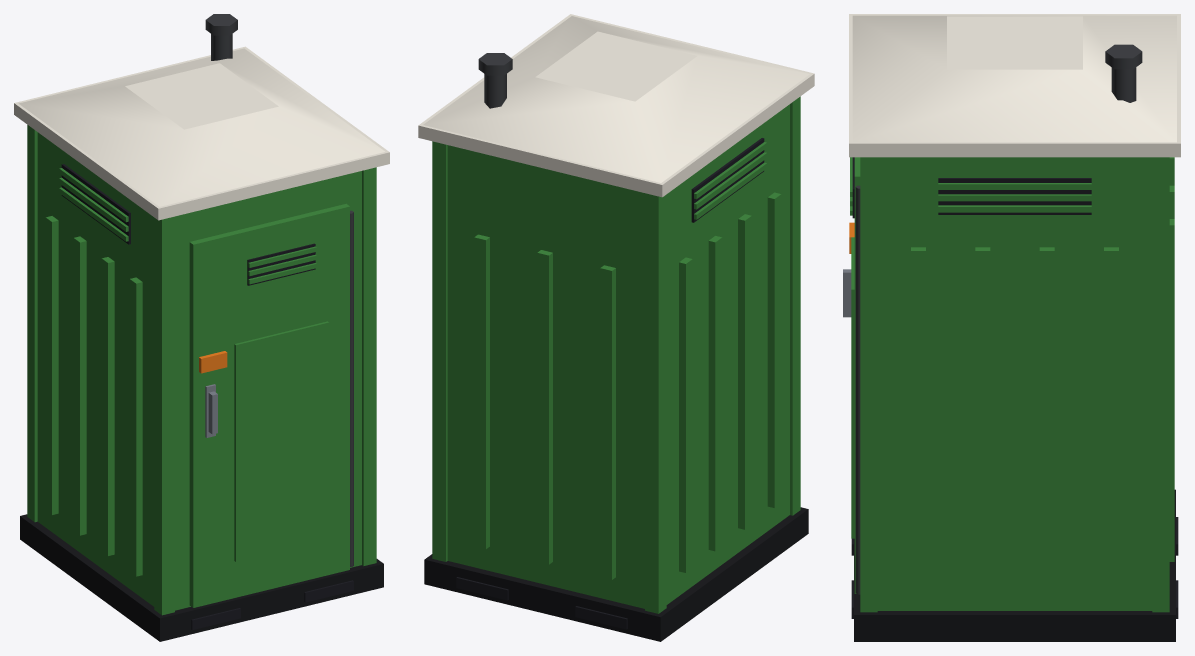
Rendered from PortableToilet.fbx.
The picture shows the model from 3 angles, left to right: view 1: azimuth 30°, elevation 25°; view 2: azimuth 150°, elevation 25°; view 3: azimuth 270°, elevation 25°; orthographic projection. The views are drawn at different scales.
Visible parts, largest first — view 1: PortableToilet_Festival_3A883A, PortableToilet_Festival_F2EDE2, PortableToilet_Festival_151619, PortableToilet_Festival_1B1B22, PortableToilet_Festival_3A3C40, PortableToilet_Festival_7D828C; view 2: PortableToilet_Festival_3A883A, PortableToilet_Festival_F2EDE2, PortableToilet_Festival_151619, PortableToilet_Festival_1B1B22, PortableToilet_Festival_3A3C40; view 3: PortableToilet_Festival_3A883A, PortableToilet_Festival_F2EDE2, PortableToilet_Festival_151619, PortableToilet_Festival_3A3C40, PortableToilet_Festival_1B1B22.
Boxes of the visible parts, x1,y1,x2,y2 form: PortableToilet_Festival_3A883A: (27,125,376,615); PortableToilet_Festival_F2EDE2: (14,46,389,220); PortableToilet_Festival_151619: (20,514,383,641); PortableToilet_Festival_1B1B22: (61,164,353,630); PortableToilet_Festival_3A3C40: (205,14,353,566); PortableToilet_Festival_7D828C: (205,384,217,437); PortableToilet_Festival_3A883A: (432,96,800,613); PortableToilet_Festival_F2EDE2: (418,14,814,197); PortableToilet_Festival_151619: (424,507,808,641); PortableToilet_Festival_1B1B22: (456,138,764,629); PortableToilet_Festival_3A3C40: (478,53,512,108); PortableToilet_Festival_3A883A: (850,157,1174,612); PortableToilet_Festival_F2EDE2: (849,14,1180,157); PortableToilet_Festival_151619: (854,489,1175,641); PortableToilet_Festival_3A3C40: (855,44,1142,594); PortableToilet_Festival_1B1B22: (851,157,1178,618).
Size of the model in its own units: 1.24 by 2.52 by 1.36.
